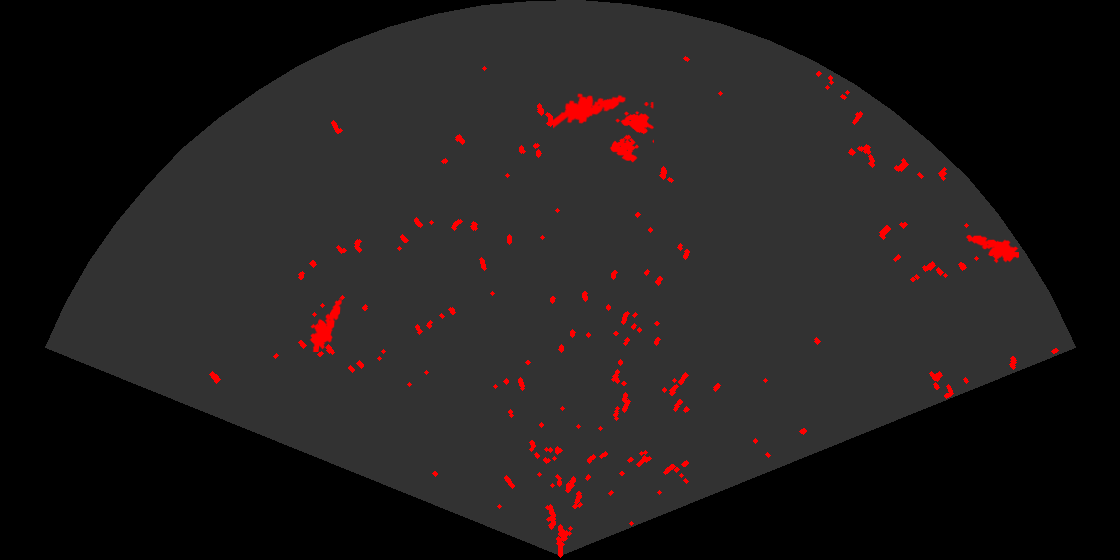cage: (608, 102, 654, 164)
frogman: (553, 92, 628, 130), (308, 297, 343, 352), (964, 233, 1019, 265)
